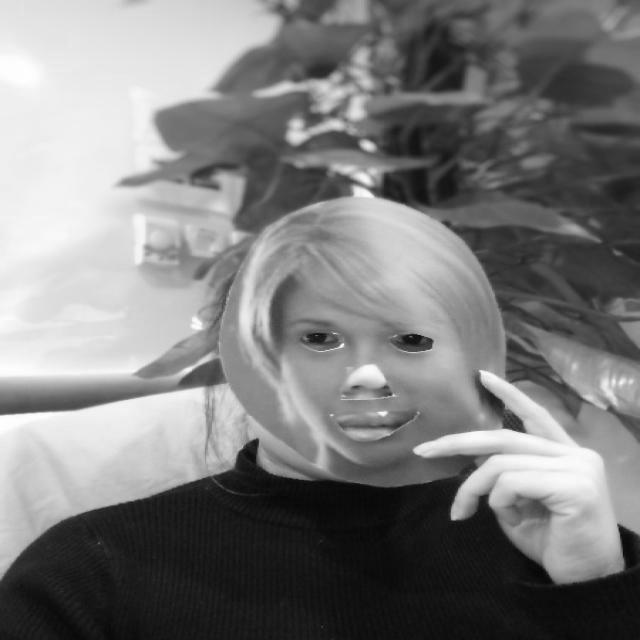fake: (213, 194, 518, 490)
